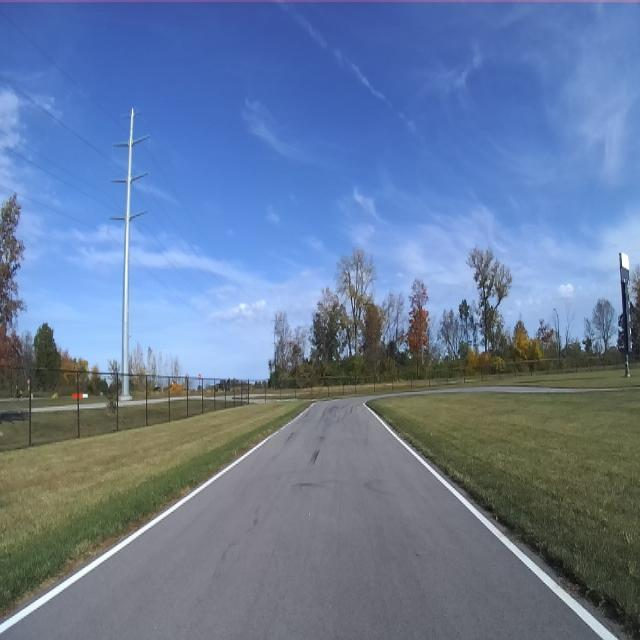white-line: (364, 403, 619, 639), (0, 430, 278, 634), (280, 403, 315, 430)
